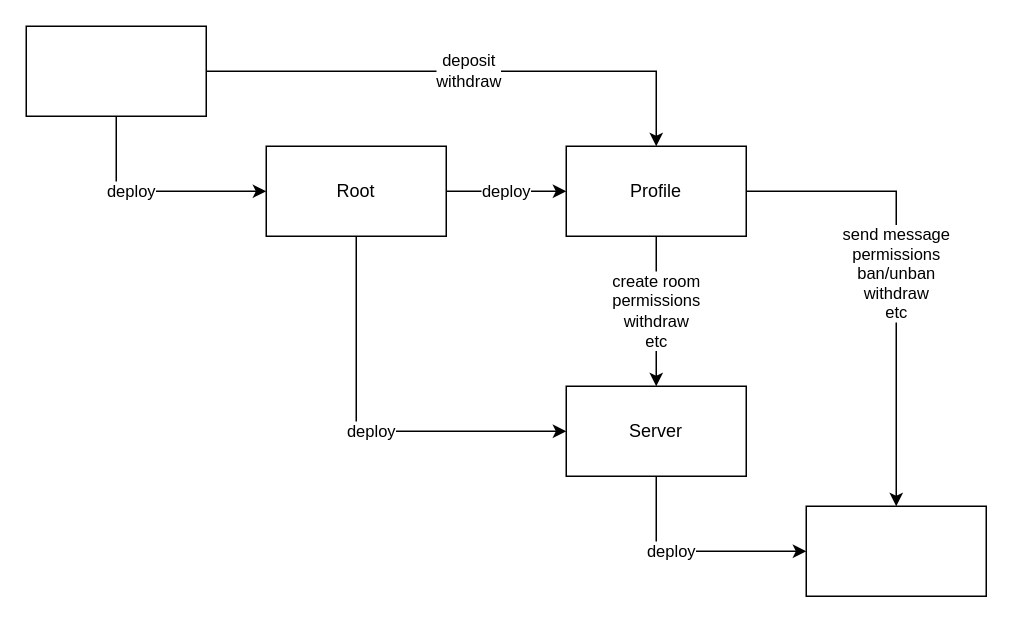
This 1013x623 diagram has some shape labels left out. Here are the shapes that lost their labels. From the top down, the centre of each, then its label:
point 115,70: User
point 895,550: Room
